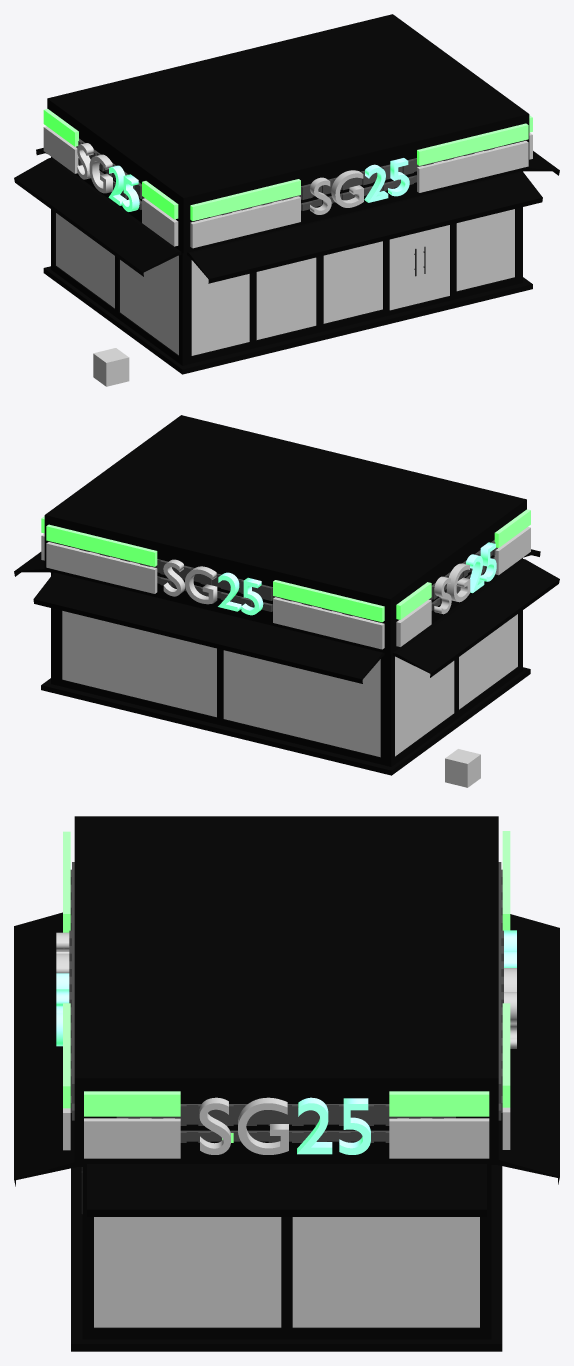
File: SG25_STORE.fbx
3 renders of one model, top to bottom at view 1: azimuth 30°, elevation 25°; view 2: azimuth 150°, elevation 25°; view 3: azimuth 270°, elevation 25°, orthographic. The views are drawn at different scales.
Parts seen in each view (by area): view 1: ROOF, ROOF.003, ROOF.010, ROOF.087, ROOF.084, ROOF.006, ROOF.090, ROOF.004, ROOF.015, ROOF.014, ROOF.083, ROOF.001 (+11 smaller); view 2: ROOF, ROOF.088, ROOF.086, ROOF.087, ROOF.084, ROOF.090, ROOF.085, ROOF.081, ROOF.080, ROOF.083, ROOF.079, ROOF.078 (+7 smaller); view 3: ROOF, ROOF.005, ROOF.008, ROOF.010, ROOF.086, ROOF.007, ROOF.090, ROOF.027, ROOF.026, ROOF.023, ROOF.025, ROOF.024 (+11 smaller).
Part boxes in pixels (x1,y1,x2,y2): ROOF: (47,14,529,253); ROOF.003: (191,241,382,355); ROOF.010: (187,171,542,283); ROOF.087: (56,213,178,355); ROOF.084: (14,157,181,276); ROOF.006: (187,208,518,364); ROOF.090: (43,266,532,374); ROOF.004: (456,209,514,291); ROOF.015: (417,140,528,192); ROOF.014: (190,196,300,248); ROOF.083: (51,157,187,365); ROOF.001: (419,225,449,303); ROOF: (44,415,526,654); ROOF.088: (62,611,380,757); ROOF.086: (33,572,384,683); ROOF.087: (395,614,517,756); ROOF.084: (392,558,559,677); ROOF.090: (41,667,530,775); ROOF.085: (55,609,386,765); ROOF.081: (273,597,384,649); ROOF.080: (46,542,157,593); ROOF.083: (387,558,522,766); ROOF.079: (273,580,384,622); ROOF.078: (46,524,157,566); ROOF: (74,816,498,1163); ROOF.005: (94,1217,479,1327); ROOF.008: (87,1164,486,1216); ROOF.010: (14,912,82,1186); ROOF.086: (491,914,559,1184); ROOF.007: (82,1164,491,1339); ROOF.090: (71,1165,502,1351); ROOF.027: (389,1118,489,1158); ROOF.026: (84,1118,180,1158); ROOF.023: (116,1104,455,1125); ROOF.025: (389,1091,489,1116); ROOF.024: (84,1091,180,1116).
Bounding box in the file's own units: 3656 × 1925 × 2668.
